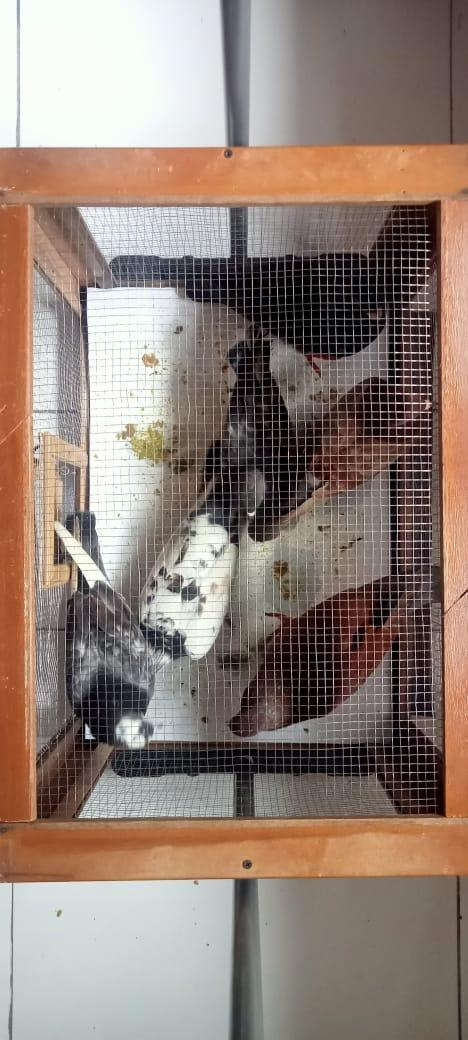Merpati: (221, 567, 447, 735), (248, 375, 430, 544), (135, 441, 242, 677), (56, 515, 157, 752), (182, 254, 395, 360), (207, 325, 298, 521)
